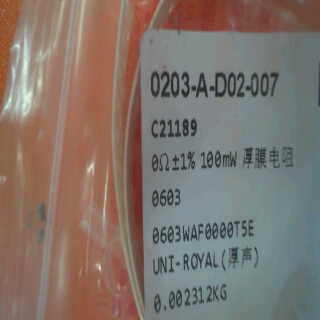0R: (146, 148, 200, 215)
